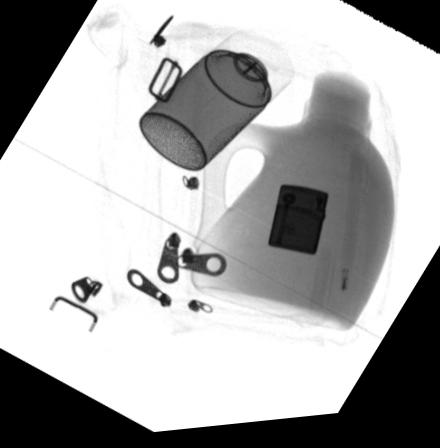Lighter: (267, 191, 328, 262)
Sprayer: (138, 31, 295, 175)
